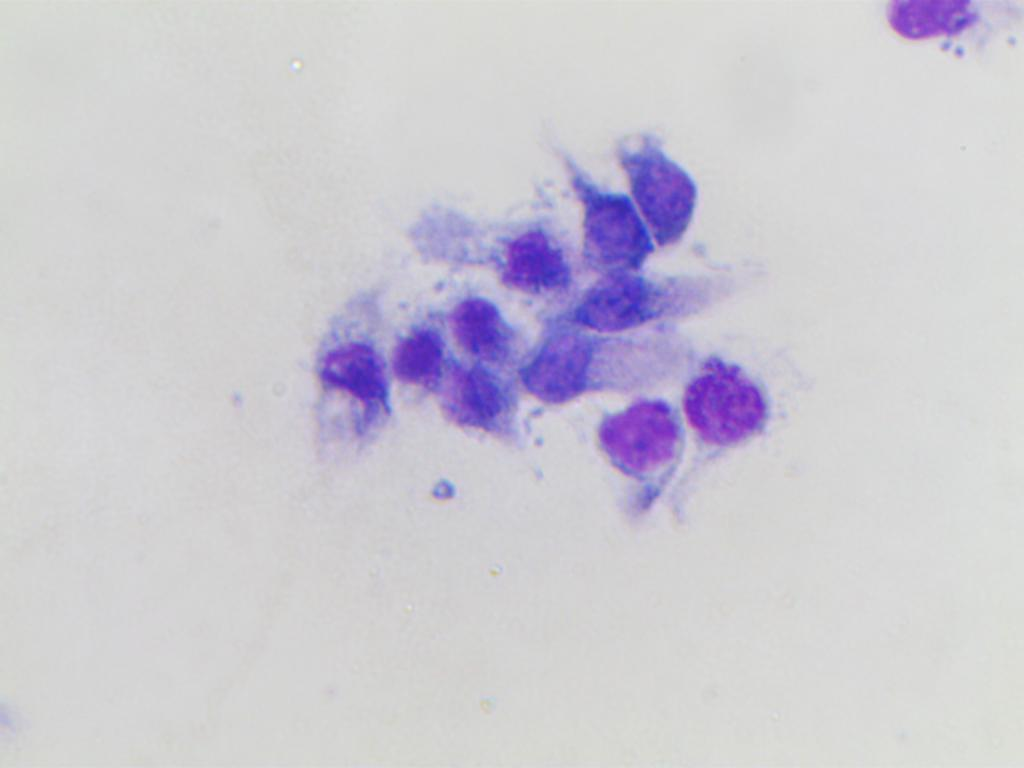epithelial: (377, 196, 569, 292), (511, 325, 682, 408), (622, 123, 733, 245), (279, 315, 390, 437), (679, 340, 790, 462), (570, 394, 681, 516), (566, 258, 753, 329), (444, 362, 539, 458), (866, 0, 1024, 50), (446, 276, 518, 358), (387, 321, 450, 406)
